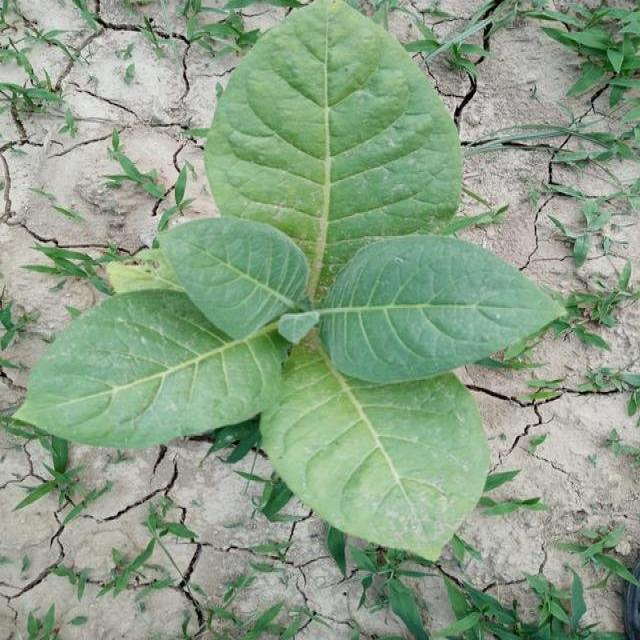crop: (22, 12, 564, 564)
